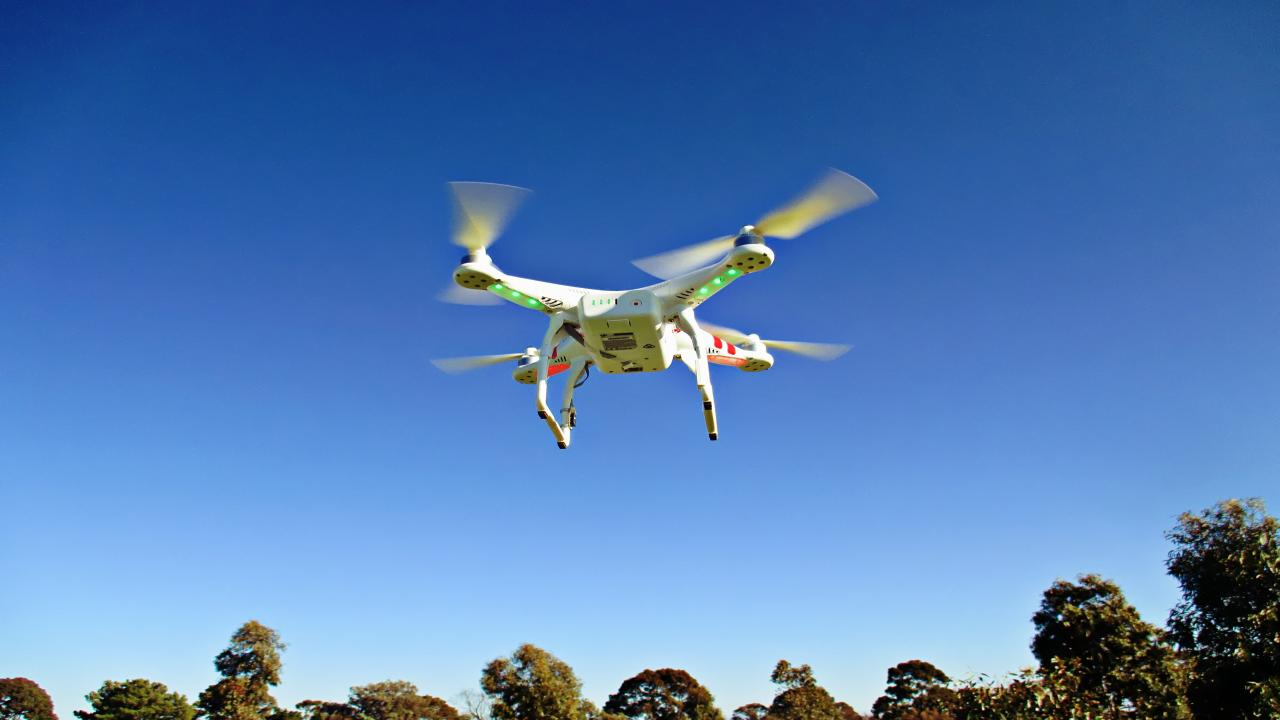Drone: (401, 150, 908, 459)
